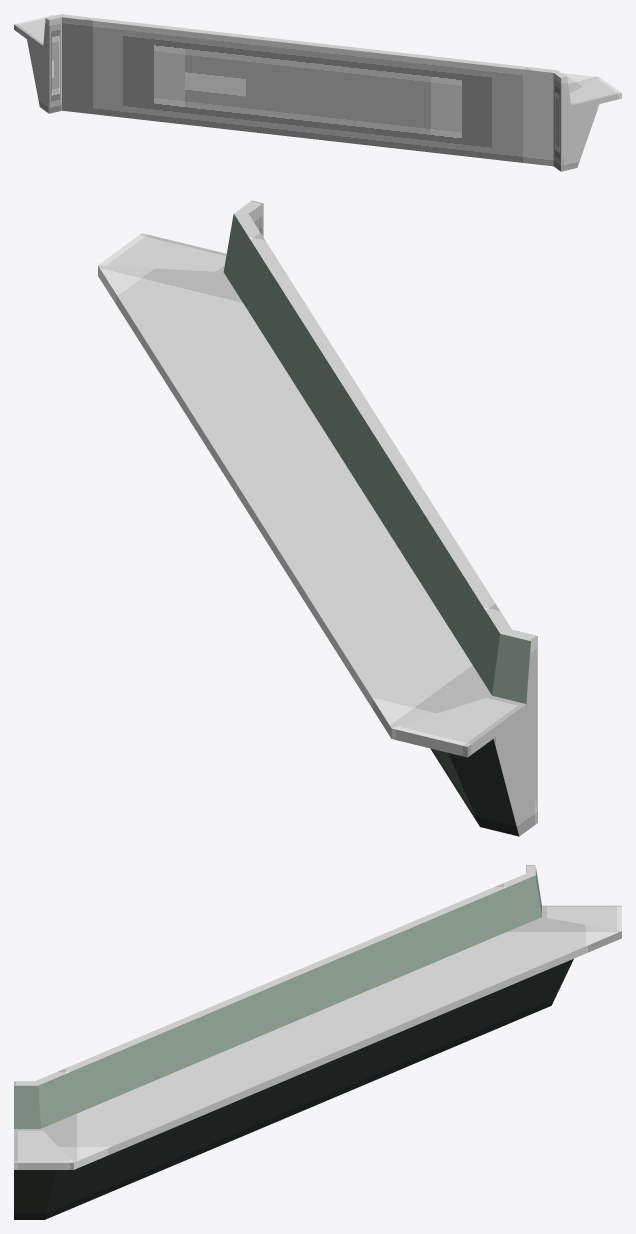
File: desk_corner_outside_4_item.obj
3 views of the same model, one above another, from view 1: azimuth 30°, elevation 25°; view 2: azimuth 150°, elevation 25°; view 3: azimuth 270°, elevation 25° (orthographic). The views are drawn at different scales.
Bounding box in the file's own units: 4.75 × 1.1 × 4.75.
